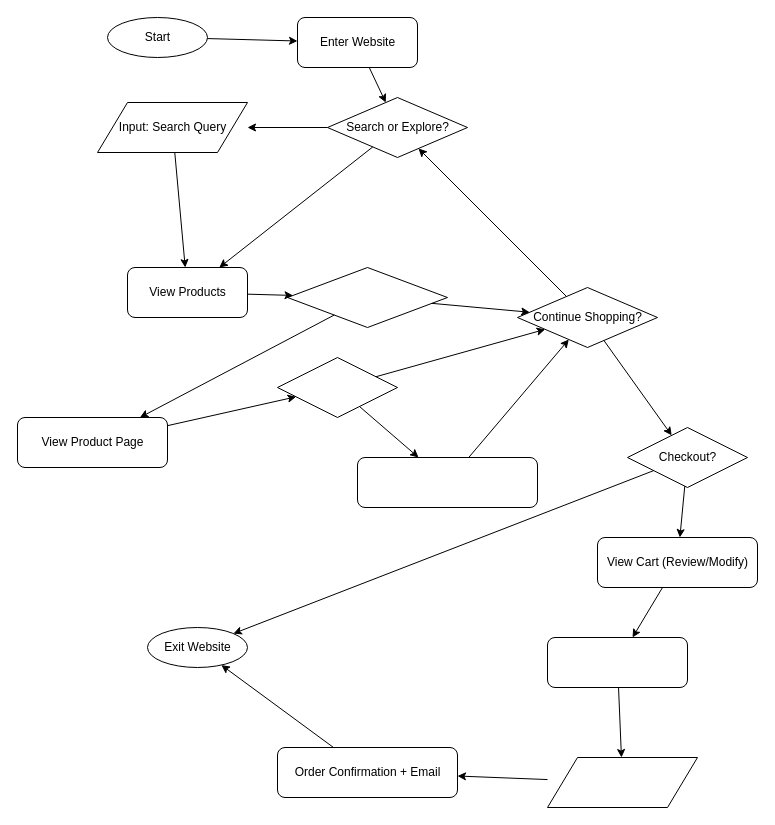
The diagram is 775 pixels wide and 825 high, and some of its shapes have lost their labels. The shapes that lost their labels are listed below. From the top down, each one's box as (x1, y1, x2, y2) in pixels, then its label:
(286, 266, 448, 328): View Specific Product?
(276, 356, 398, 418): Add to Cart?
(356, 456, 538, 508): Show 'Added to Cart' Confirmation
(546, 636, 688, 688): View Payment Page
(546, 756, 698, 808): Input: Payment Info
